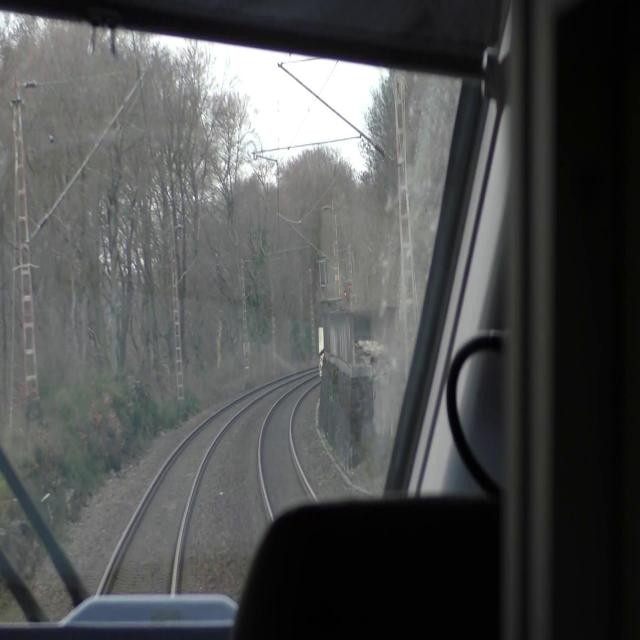rail-track: (263, 377, 318, 514)
